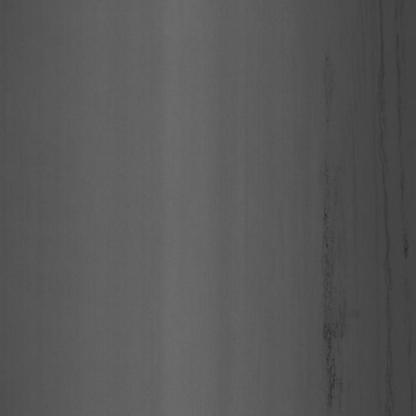inclusion: (314, 158, 350, 396)
water_spot: (374, 25, 396, 388)
